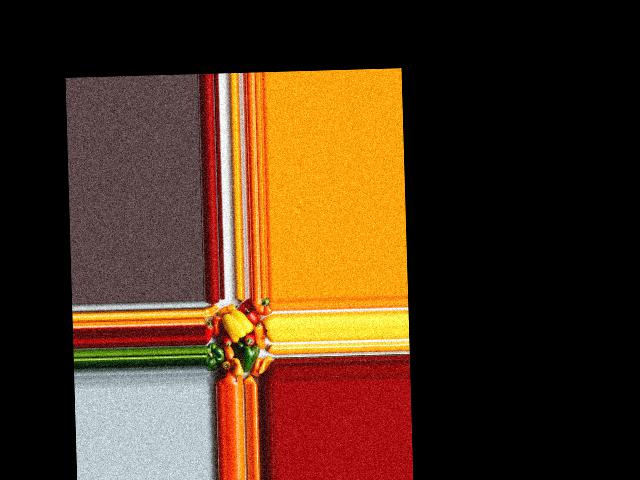bell_pepper: (203, 319, 216, 342)
